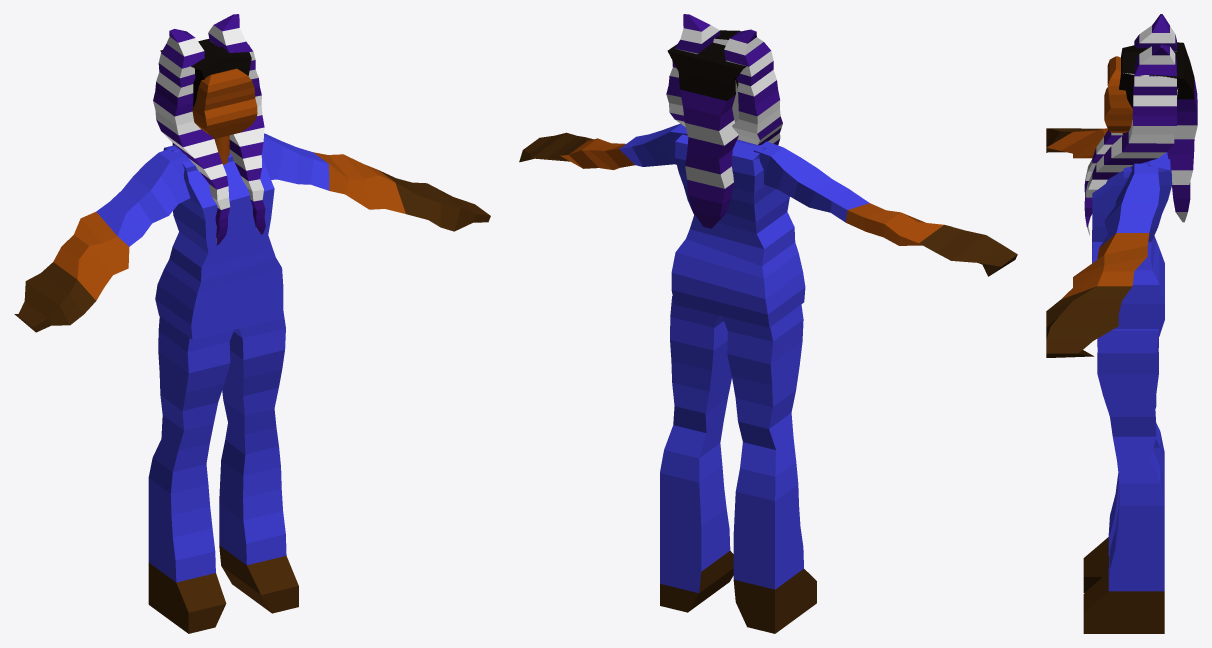
The model's file is Ahsoka character .fbx.
The picture shows the model from 3 angles, left to right: view 1: azimuth 30°, elevation 25°; view 2: azimuth 150°, elevation 25°; view 3: azimuth 270°, elevation 25°; orthographic projection. The views are drawn at different scales.
Visible parts, largest first — view 1: Right Leg, Left Leg, Body, Right Arm, Left Arm, Lekku Right, Lekku left, Head, Lekku Back; view 2: Right Leg, Left Leg, Body, Lekku Back, Right Arm, Lekku Right, Left Arm, Lekku left; view 3: Left Leg, Left Arm, Lekku left, Body, Lekku Back, Right Leg, Head, Right Arm, Lekku Right.
Boxes of the visible parts, box(x1,y1,x2,y2) form: Right Leg: box(148, 316, 233, 633); Left Leg: box(219, 311, 298, 613); Body: box(155, 145, 283, 339); Right Arm: box(14, 147, 190, 332); Left Arm: box(261, 133, 490, 231); Lekku Right: box(153, 29, 230, 245); Lekku left: box(208, 14, 265, 234); Head: box(192, 68, 257, 138); Lekku Back: box(160, 39, 251, 145); Right Leg: box(722, 304, 816, 633); Left Leg: box(660, 296, 733, 612); Body: box(671, 130, 805, 327); Lekku Back: box(667, 30, 762, 228); Right Arm: box(753, 141, 1017, 276); Lekku Right: box(724, 29, 782, 145); Left Arm: box(519, 123, 687, 169); Lekku left: box(666, 14, 720, 127); Left Leg: box(1083, 329, 1164, 633); Left Arm: box(1046, 163, 1159, 357); Lekku left: box(1084, 44, 1176, 235); Body: box(1092, 152, 1172, 336); Lekku Back: box(1119, 42, 1197, 222); Right Leg: box(1083, 336, 1164, 592); Head: box(1104, 56, 1132, 132); Right Arm: box(1046, 128, 1107, 158); Lekku Right: box(1084, 14, 1176, 197).
Bounding box in the file's own units: 101 × 121 × 28.79.
